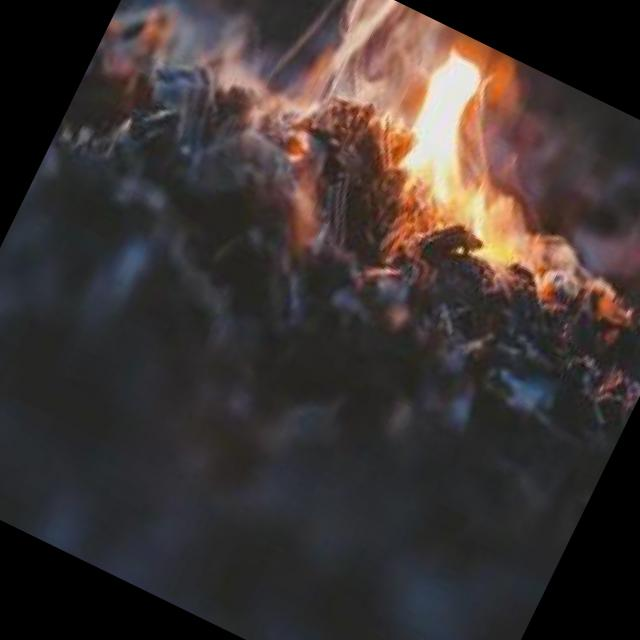fire: (357, 30, 640, 354)
